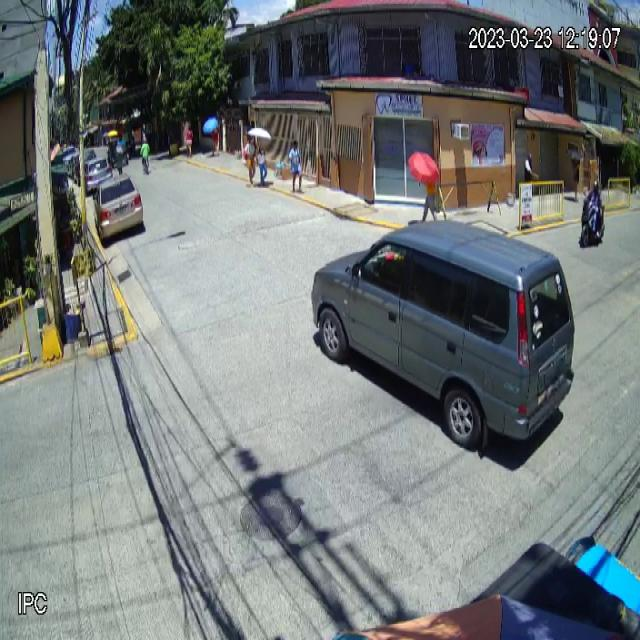Car: (310, 217, 576, 459)
